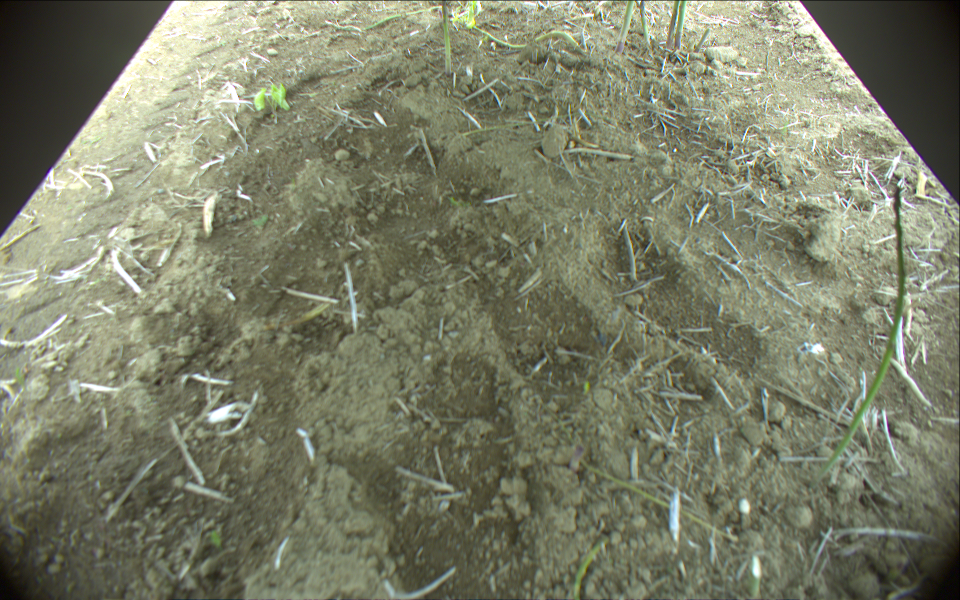aspa: (806, 185, 906, 487), (469, 22, 588, 55), (367, 1, 443, 30), (439, 1, 454, 71), (617, 1, 635, 51), (667, 1, 680, 48), (675, 1, 687, 49), (640, 1, 652, 48), (695, 28, 711, 50)
